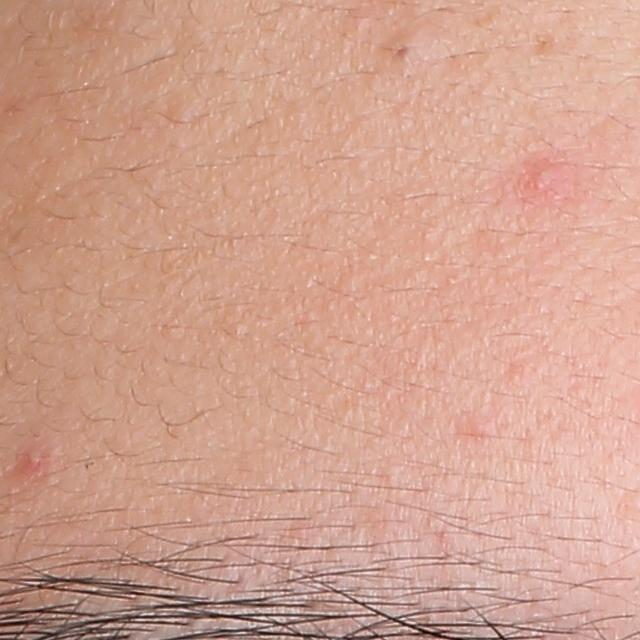comedo: (378, 33, 420, 71)
papule: (15, 446, 51, 479)
